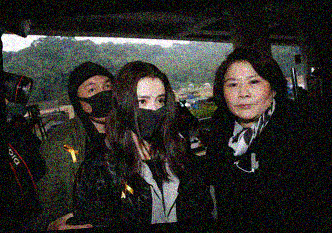with_mask: (129, 93, 171, 141), (77, 78, 117, 127)
without_mask: (222, 73, 275, 121)
